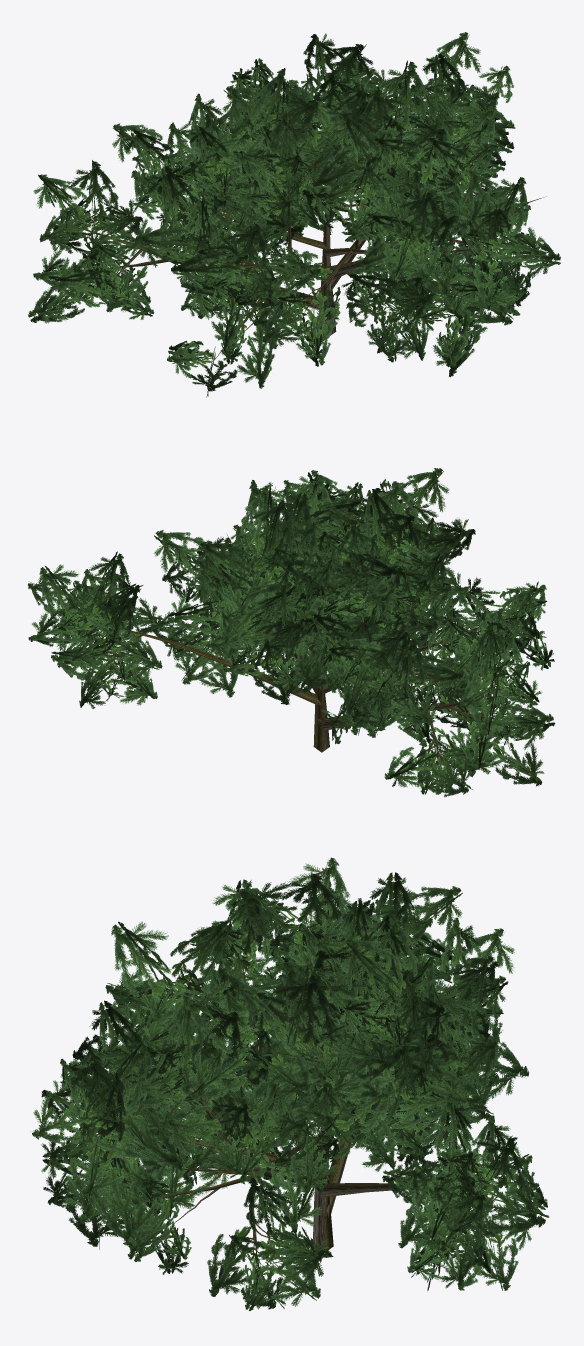
Rendered from bushC.glb.
3 renders of one model, top to bottom at view 1: azimuth 30°, elevation 25°; view 2: azimuth 150°, elevation 25°; view 3: azimuth 270°, elevation 25°, orthographic. The views are drawn at different scales.
Visible parts, largest first — view 1: bushC; view 2: bushC; view 3: bushC.
Boxes of the visible parts, bbox=[...] form: bushC: bbox=[28, 32, 560, 397]; bushC: bbox=[28, 468, 555, 797]; bushC: bbox=[32, 857, 549, 1310].
Size of the model in its own units: 3.46 by 1.97 by 2.51.
2 materials, 2 textured.
